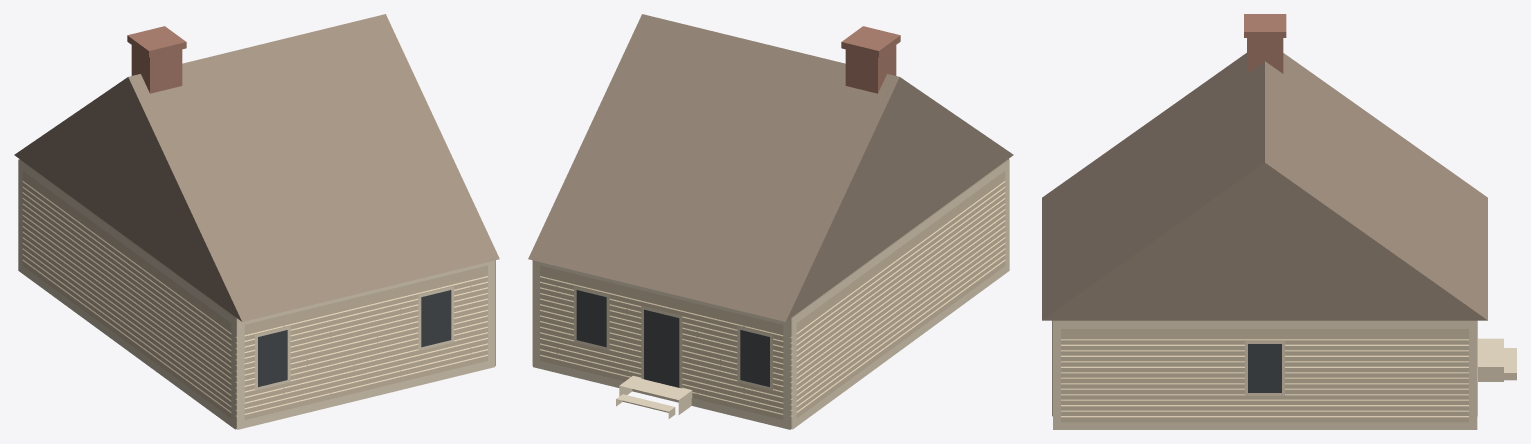
Rendered from recon_1835_south_d5_016__inferred_1835.glb.
3 views of the same model, side by side, from view 1: azimuth 30°, elevation 25°; view 2: azimuth 150°, elevation 25°; view 3: azimuth 270°, elevation 25° (orthographic). The views are drawn at different scales.
Parts seen in each view (by area): view 1: recon_1835_south_d5_016__inferred_1835; view 2: recon_1835_south_d5_016__inferred_1835; view 3: recon_1835_south_d5_016__inferred_1835.
Part boxes in pixels (box(x1,y1,x2,y2)): recon_1835_south_d5_016__inferred_1835: box(14, 14, 499, 429); recon_1835_south_d5_016__inferred_1835: box(528, 14, 1013, 429); recon_1835_south_d5_016__inferred_1835: box(1042, 14, 1516, 429).
Bounding box in the file's own units: 6.81 × 7.59 × 10.99.
